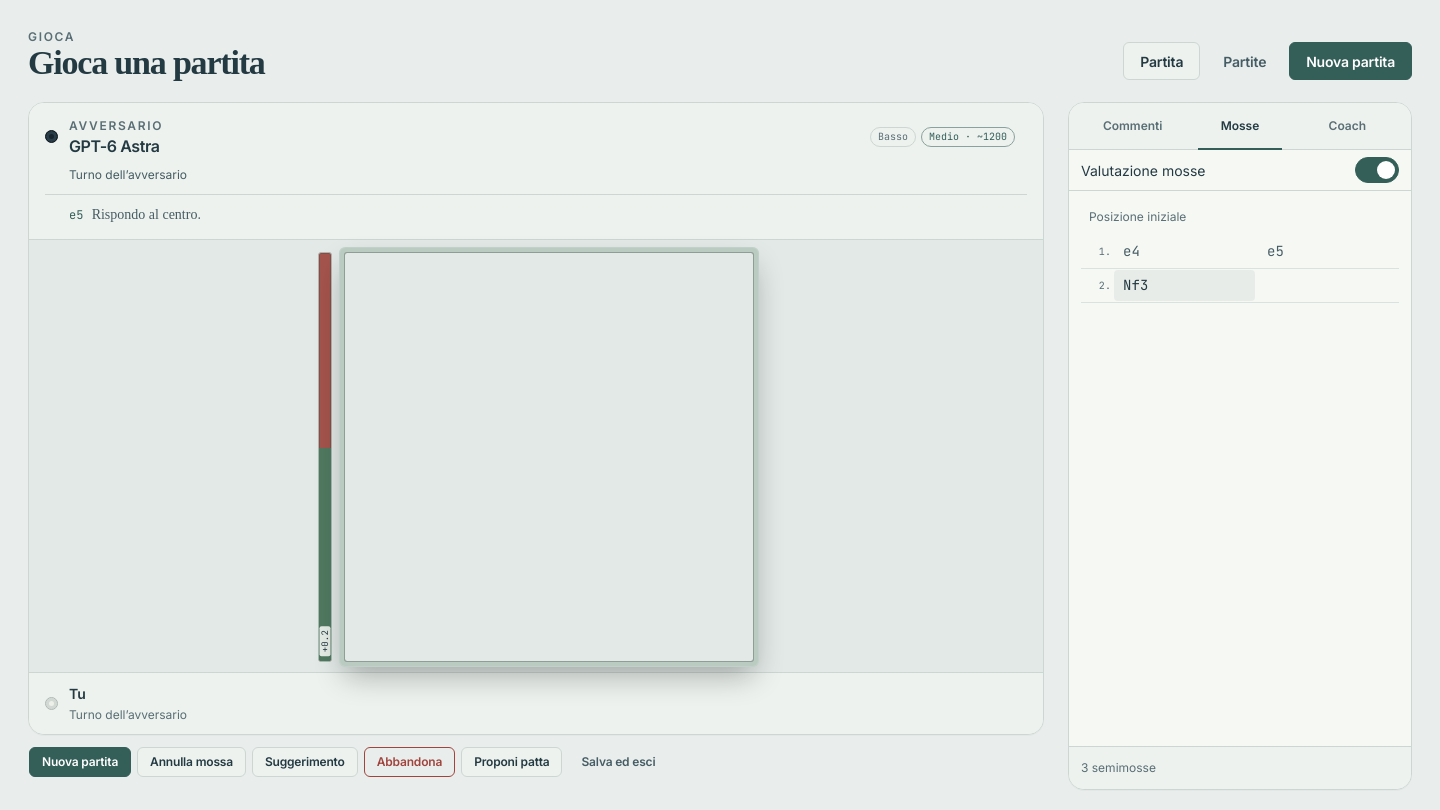
it: PlayScreen › sends the user to a new game when the archive has nothing in it
Click the button "Partite" at [1245, 61], box [1206,42,1283,80]
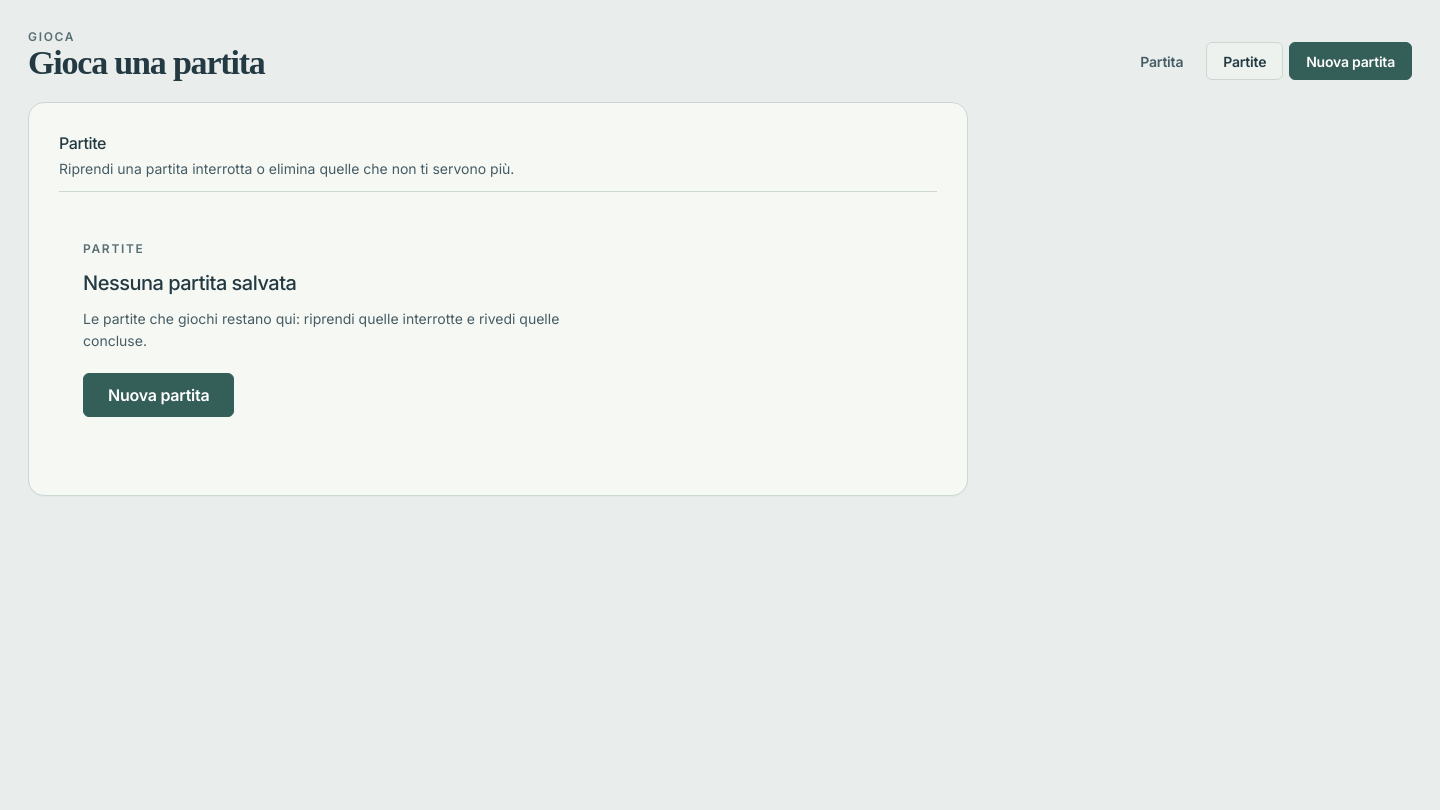
Check: the heading "Nessuna partita salvata" is shown, box [83,270,296,296]
Click the button "Nuova partita" below "Nessuna partita salvata" at [159, 395], box [83,373,234,417]
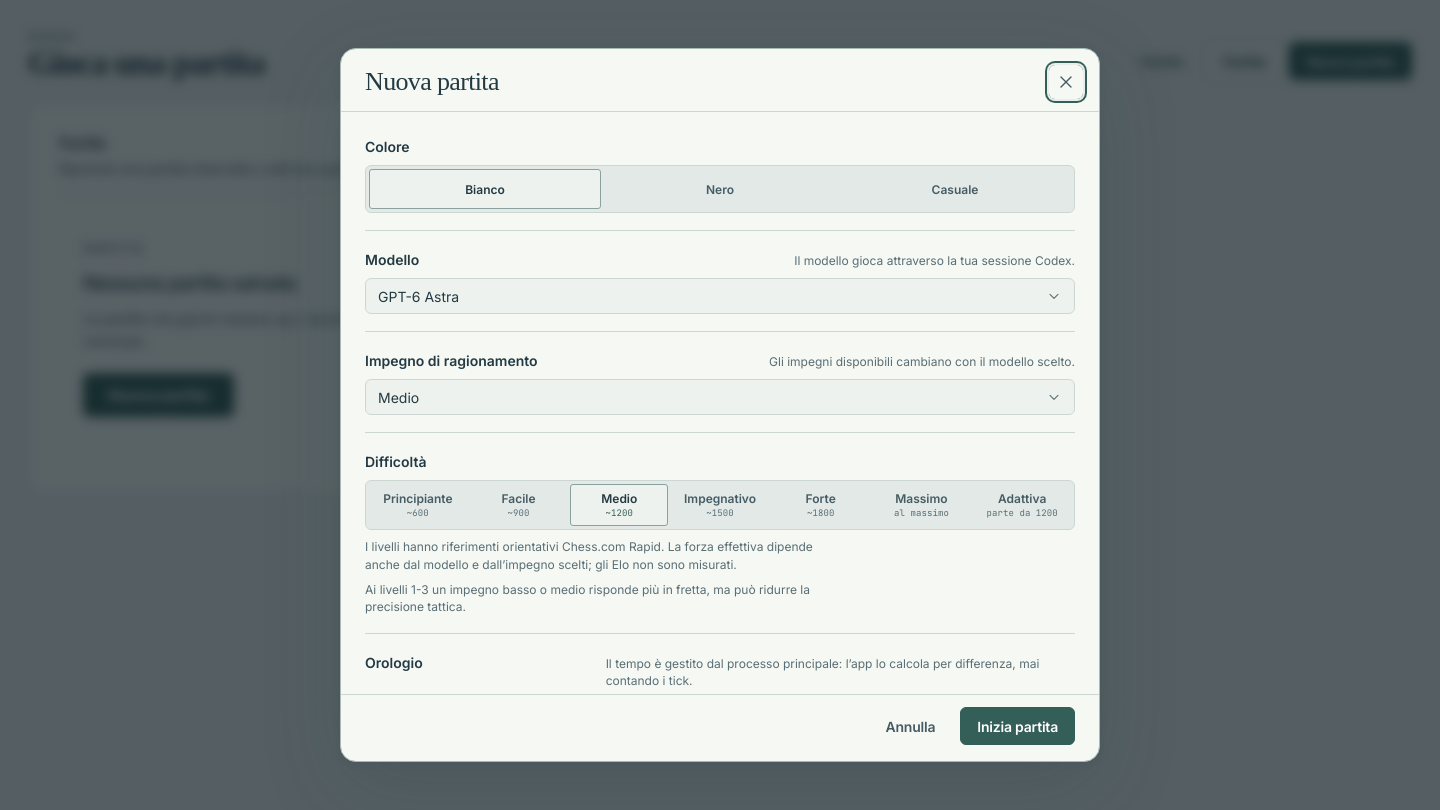
Check: the dialog is shown, box [340,48,1100,762]
